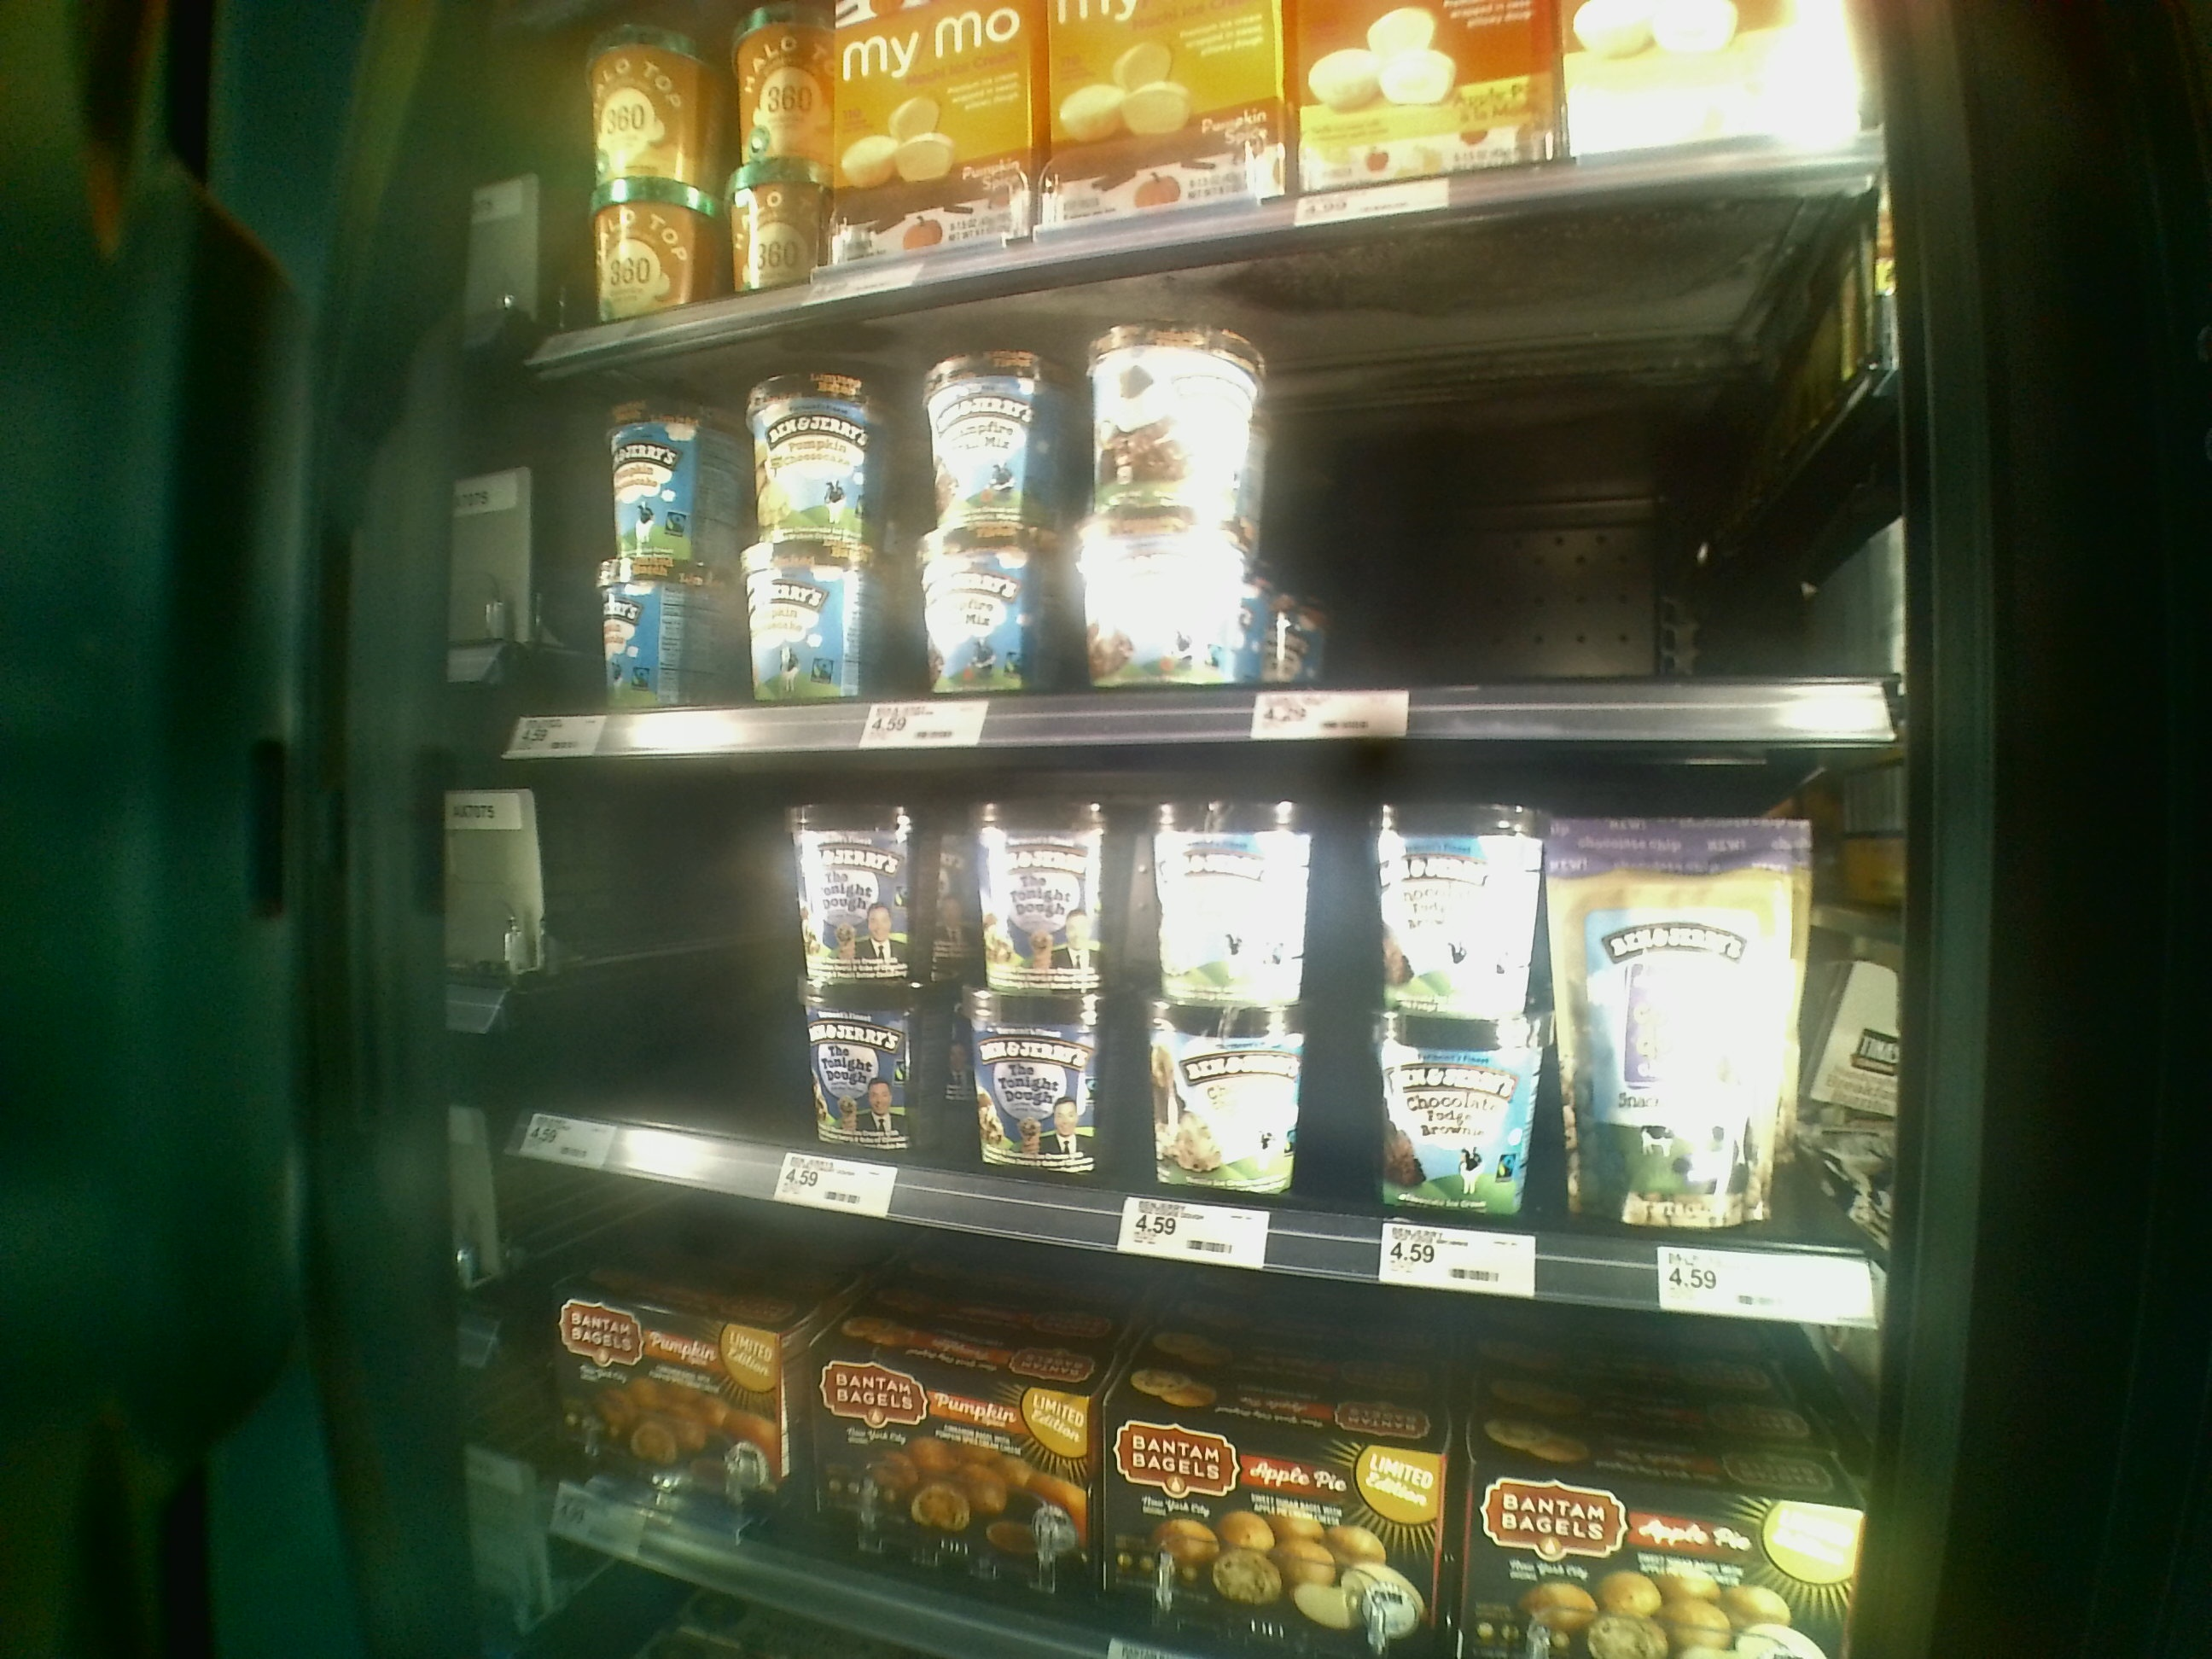shelf: (493, 730, 1892, 1324), (524, 268, 1905, 753)
